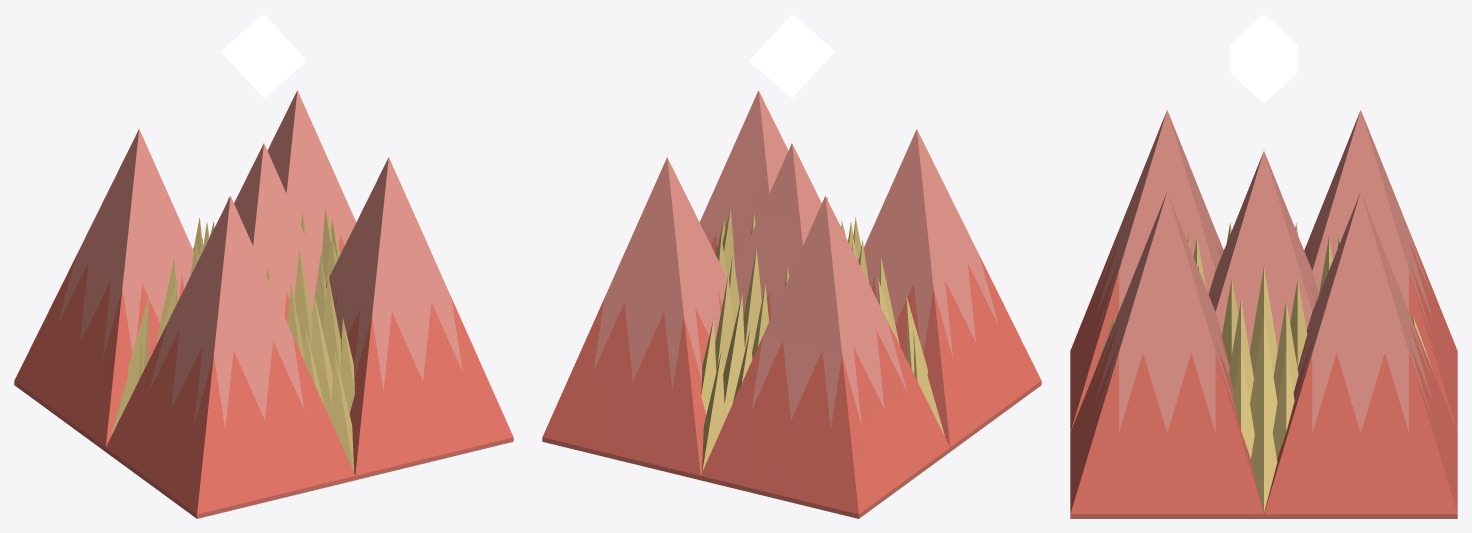
3 renders of one model, left to right at view 1: azimuth 30°, elevation 25°; view 2: azimuth 150°, elevation 25°; view 3: azimuth 270°, elevation 25°, orthographic. The views are drawn at different scales.
Visible parts, largest first — view 1: Cone_Trees_Bake_0.001; view 2: Cone_Trees_Bake_0.001; view 3: Cone_Trees_Bake_0.001.
Part boxes in pixels (left/top/right/bottom): Cone_Trees_Bake_0.001: left=14, top=14, right=513, bottom=518; Cone_Trees_Bake_0.001: left=542, top=14, right=1041, bottom=518; Cone_Trees_Bake_0.001: left=1070, top=14, right=1457, bottom=518.
Size of what is drawn, in the model's own units: 5.09 by 6.14 by 5.09.
1 material, 1 textured.
